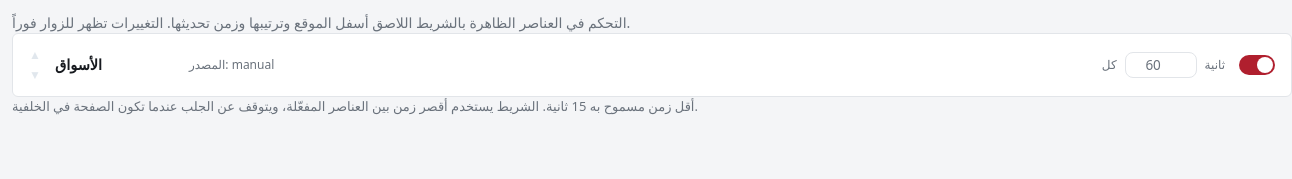
TickerManager › re-lights a module the server refused to hide
Click the switch: (1257, 65) [1239,55,1275,75]
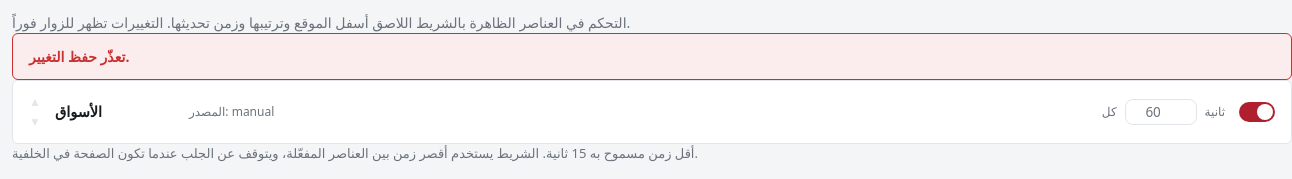
Expected: the switch is checked, [1239,102,1275,122]
Now the message shows "تعذّر حفظ التغيير", box [29,47,129,66]
